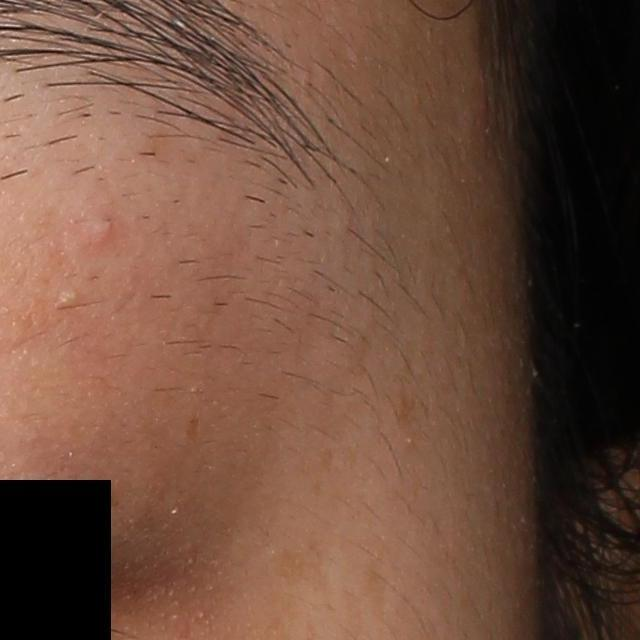melasma: (268, 539, 333, 601), (342, 565, 390, 638), (393, 379, 427, 453), (183, 413, 204, 446)
papule: (84, 214, 117, 251)
